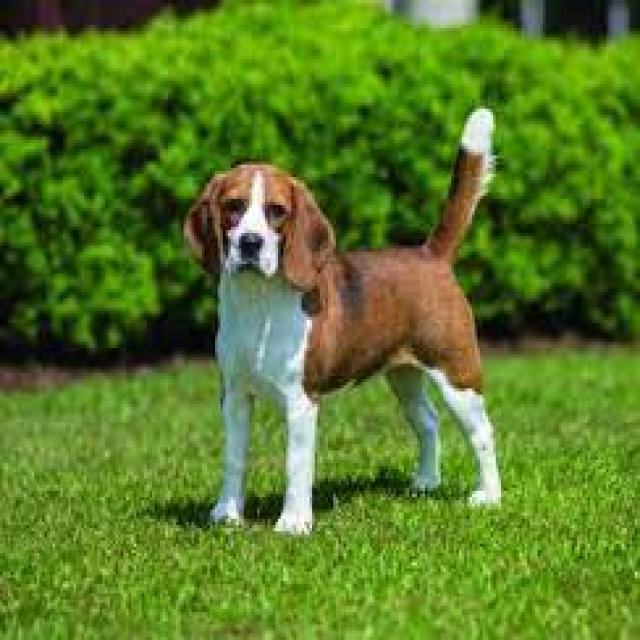Dog: (181, 90, 521, 536)
